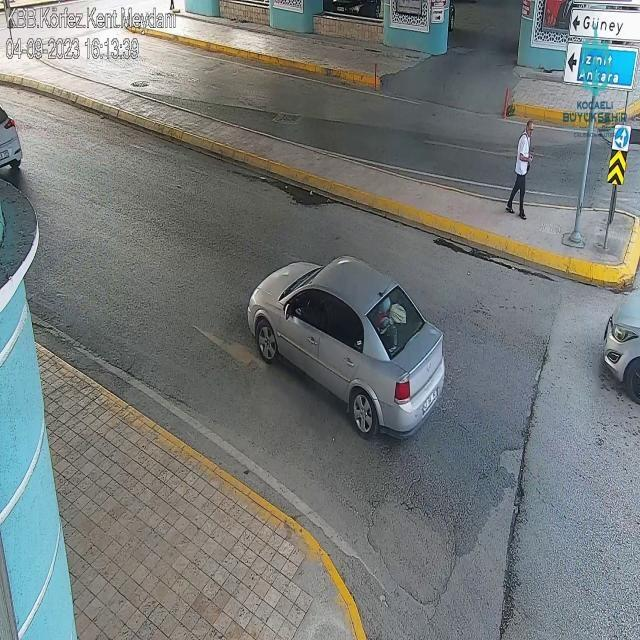Car: (240, 255, 448, 450), (592, 289, 640, 400), (0, 105, 34, 190)
